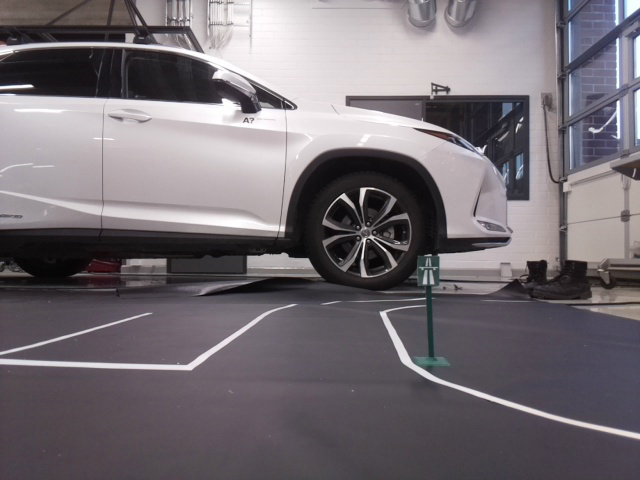HighwayEntrance: (418, 256, 438, 284)
